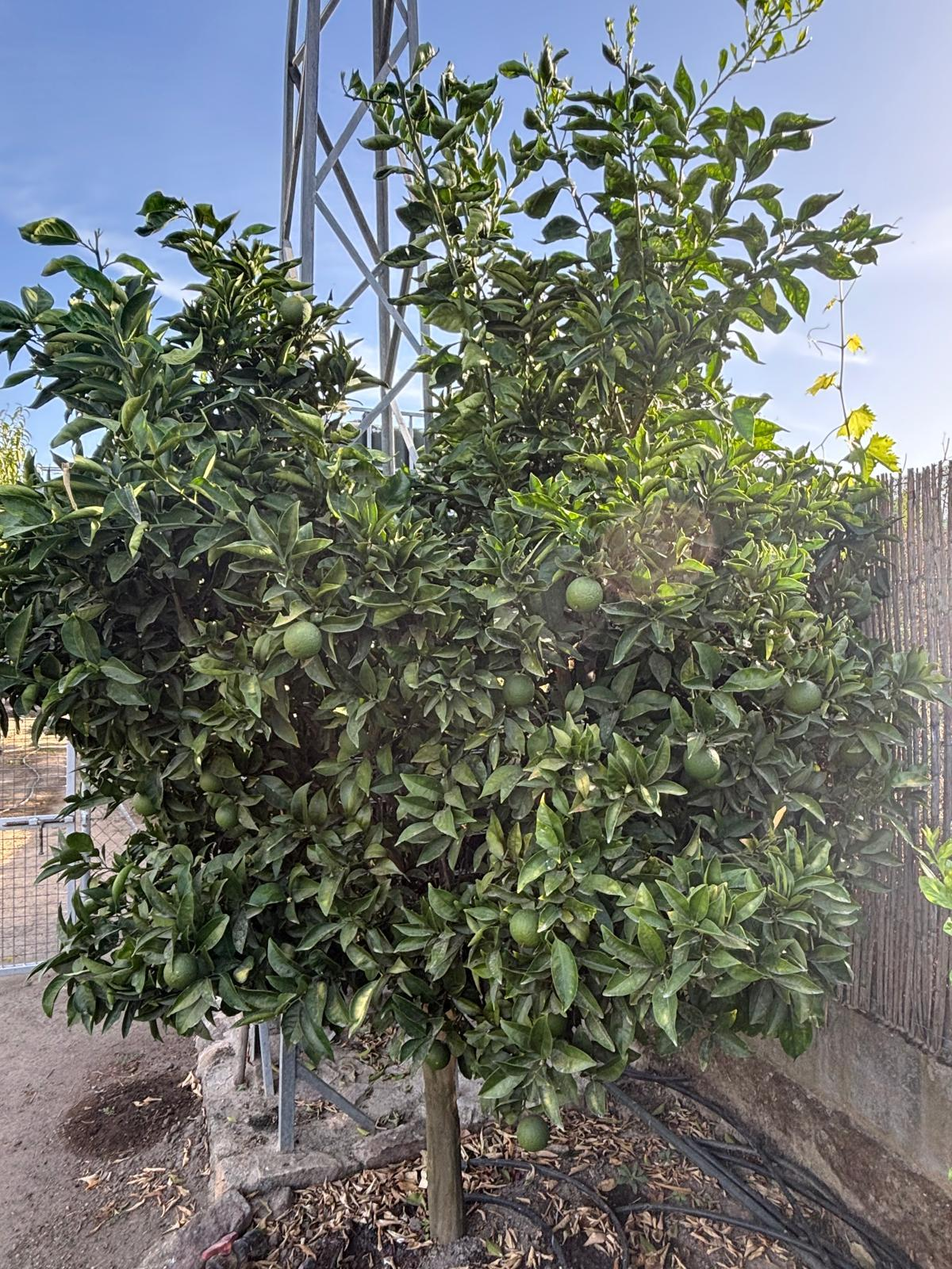naranjo: (66, 376, 850, 1236)
